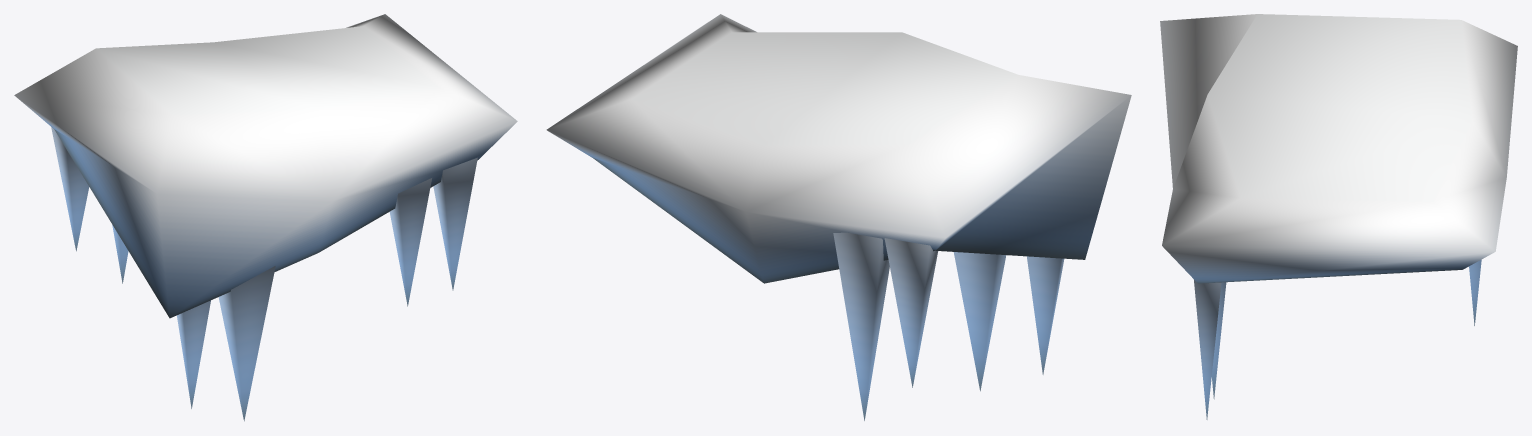
Rendered from deco_winter_wall_snowPatchA.FBX.
3 renders of one model, left to right at view 1: azimuth 30°, elevation 25°; view 2: azimuth 150°, elevation 25°; view 3: azimuth 270°, elevation 25°, orthographic. The views are drawn at different scales.
Parts seen in each view (by area): view 1: deco_winter_wall_snowPatchA; view 2: deco_winter_wall_snowPatchA; view 3: deco_winter_wall_snowPatchA.
Boxes of the visible parts, x1,y1,x2,y2 form: deco_winter_wall_snowPatchA: (14, 14, 517, 421); deco_winter_wall_snowPatchA: (546, 14, 1131, 420); deco_winter_wall_snowPatchA: (1160, 14, 1517, 419).
Bounding box in the file's own units: 1.2 × 0.9425 × 0.8561.
Materials: 1 (1 with a texture image).
